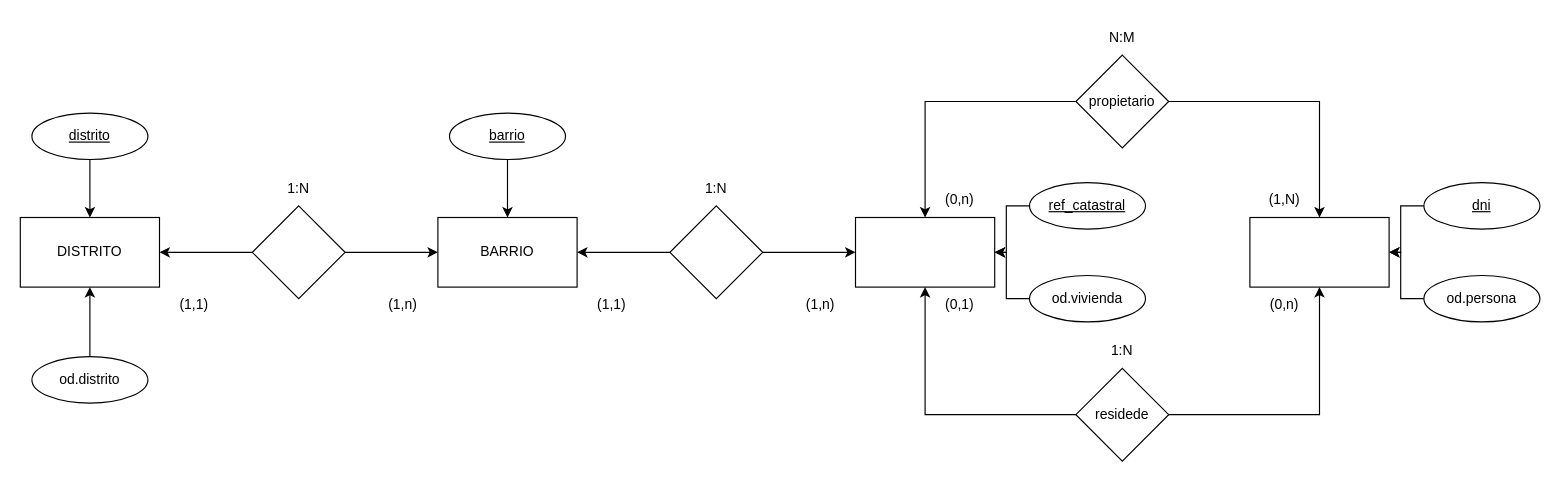
This 1560x481 diagram has some shape labels left out. The shapes that lost their labels are listed below. From the top down, each one's box as (x1, y1, x2, y2) in pixels, then its label:
(251, 205, 345, 299): divide
(669, 205, 763, 299): asignada
(854, 216, 995, 287): VIVIENDA
(1249, 216, 1389, 287): PERSONA
